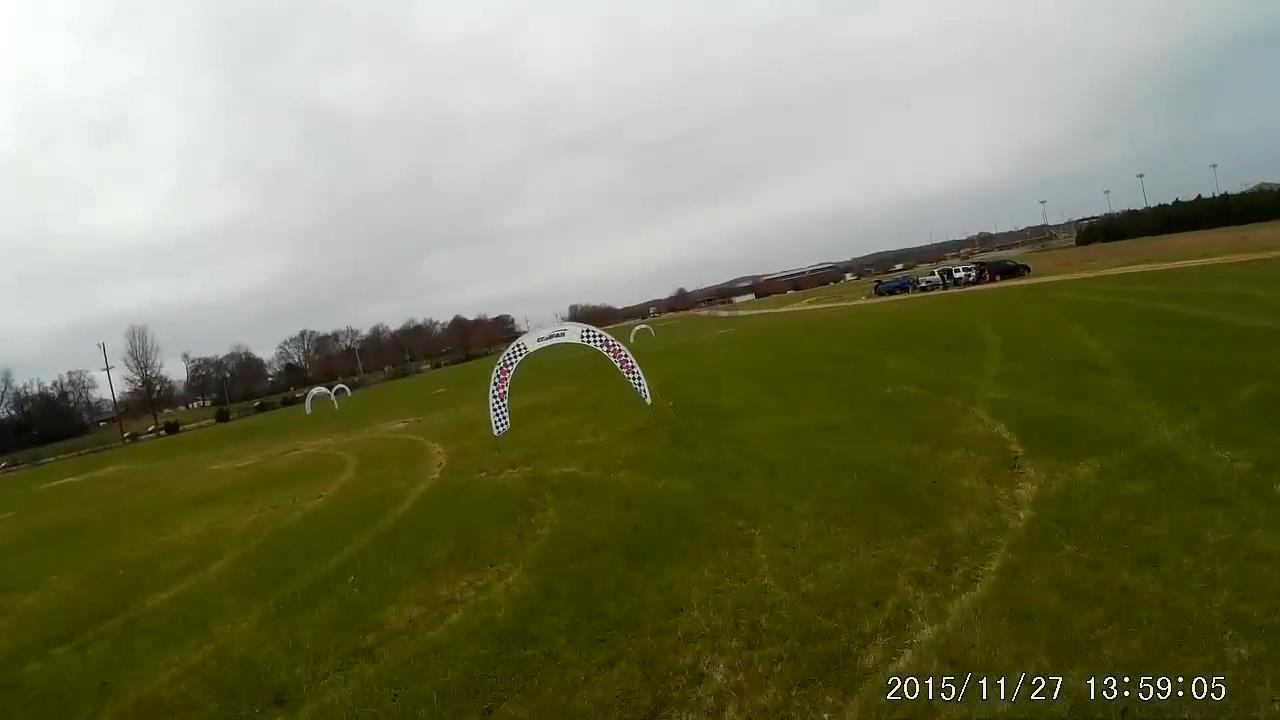gate: (486, 320, 655, 435)
